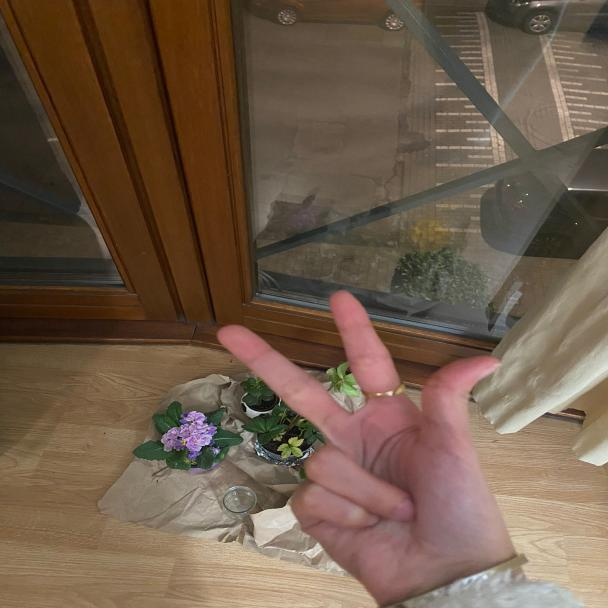three: (212, 285, 520, 587)
